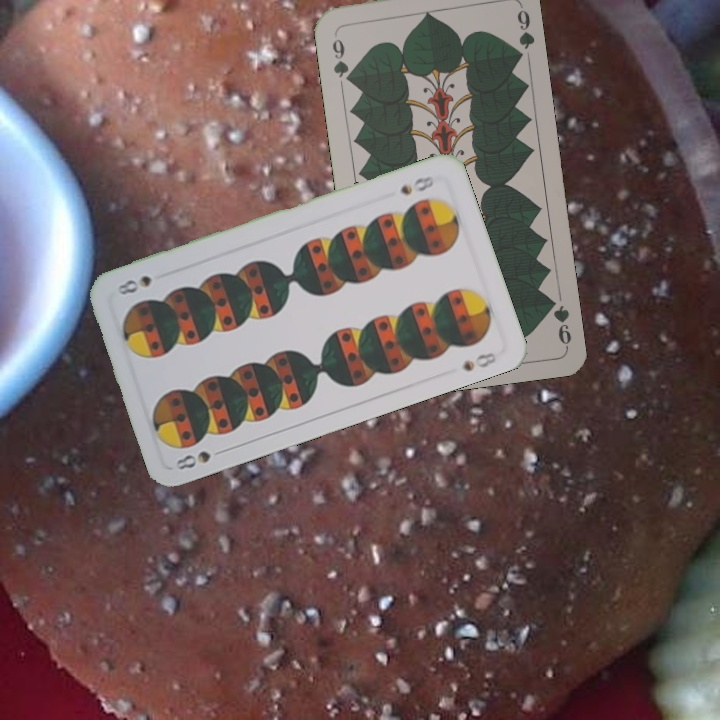G9: (543, 292, 574, 350), (328, 28, 355, 86)
S8: (172, 444, 229, 473), (395, 171, 436, 198)
